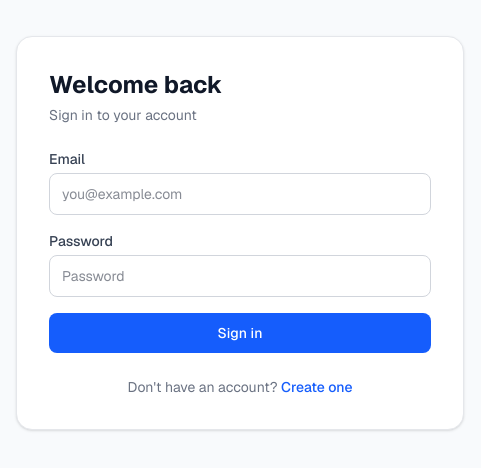
Scenario: LoginPage › shows validation messages for invalid login input
In the field labelled "Email": {"x": 240, "y": 194} [49, 173, 431, 215], type "invalid-email"
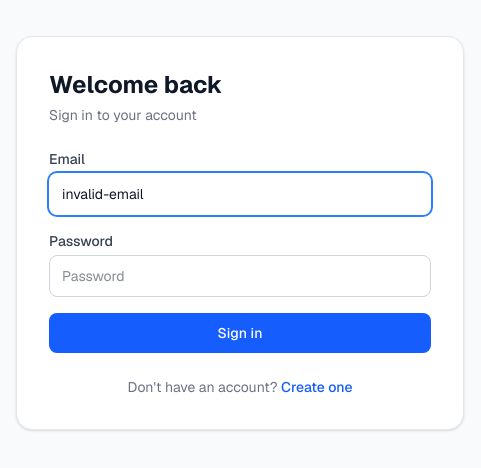
Click the button "Sign in": {"x": 240, "y": 333} [49, 313, 431, 353]
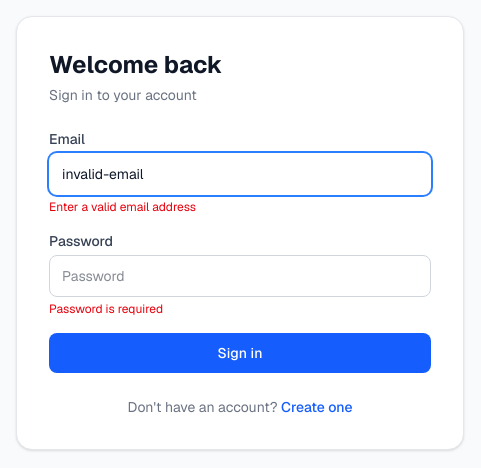
Now the text "Enter a valid email address" is shown, box [49, 199, 196, 215]
Now the text "Password is required" is shown, box [49, 301, 163, 317]
